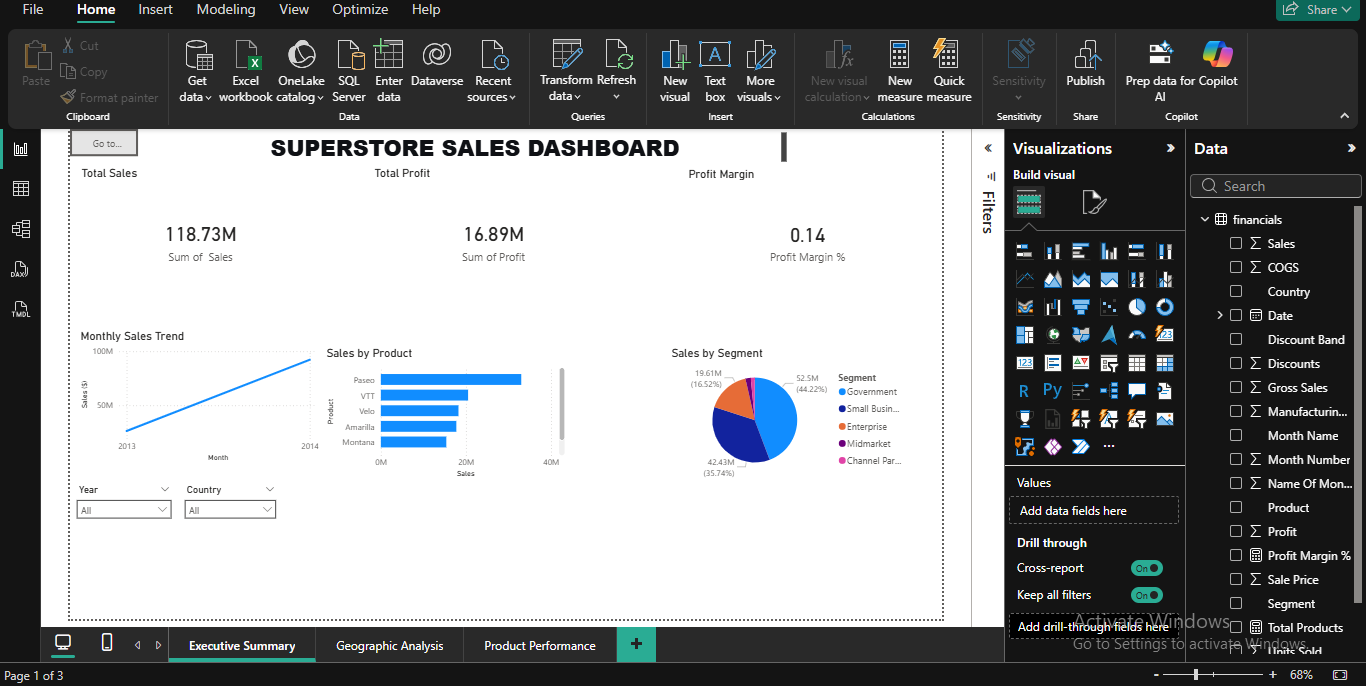

What the dashboard file says about the page in this screenshot:
{"tool":"powerbi","page":{"name":"Executive Summary","canvas":[1280,720],"ordinal":0},"visuals":[{"type":"card","title":"Total Sales","fields":{"Values":["Sum(financials. Sales)"]},"box":[11.4,54.3,360,198.6],"z":0},{"type":"card","title":"Total Profit","fields":{"Values":["Sum(financials.Profit)"]},"box":[442.9,54.3,360,198.6],"z":1000},{"type":"card","title":"Profit Margin","fields":{"Values":["financials.Profit Margin %"]},"box":[904.3,55.7,360,197.1],"z":2000},{"type":"textbox","box":[141.4,0,917.1,54.3],"z":3000},{"type":"lineChart","title":"Monthly Sales Trend","fields":{"Category":["financials.Date.Variation.Date Hierarchy.Year","financials.Date.Variation.Date Hierarchy.Quarter","financials.Date.Variation.Date Hierarchy.Month","financials.Date.Variation.Date Hierarchy.Day"],"Y":["Sum(financials. Sales)"]},"box":[11,293.5,360,199],"z":4000},{"type":"barChart","title":"Sales by Product","fields":{"Category":["financials.Product"],"Y":["Sum(financials. Sales)"]},"box":[371.4,318.6,360,198.6],"z":5000},{"type":"pieChart","title":"Sales by Segment","fields":{"Category":["financials.Segment"],"Y":["Sum(financials. Sales)"]},"box":[878.6,318.6,360,198.6],"z":6000},{"type":"slicer","fields":{"Values":["financials.Year"]},"box":[0,517.1,158.6,198.6],"z":7000},{"type":"slicer","fields":{"Values":["financials.Country"]},"box":[158.6,517.1,154.3,177.1],"z":8000},{"type":"actionButton","box":[0,0,100,40],"z":9000}]}

Visuals, with their boxes on the page's 1280x720 design canvas (x1, y1, x2, y2). These are canvas units, not pixel positions in the 1366x686 screenshot, which may show the page scaled, cropped or inside an application window:
"Total Sales" card: <region>11, 54, 371, 253</region>
"Total Profit" card: <region>443, 54, 803, 253</region>
"Profit Margin" card: <region>904, 56, 1264, 253</region>
textbox: <region>141, 0, 1058, 54</region>
"Monthly Sales Trend" lineChart: <region>11, 294, 371, 492</region>
"Sales by Product" barChart: <region>371, 319, 731, 517</region>
"Sales by Segment" pieChart: <region>879, 319, 1239, 517</region>
slicer - financials.Year: <region>0, 517, 159, 716</region>
slicer - financials.Country: <region>159, 517, 313, 694</region>
actionButton: <region>0, 0, 100, 40</region>
